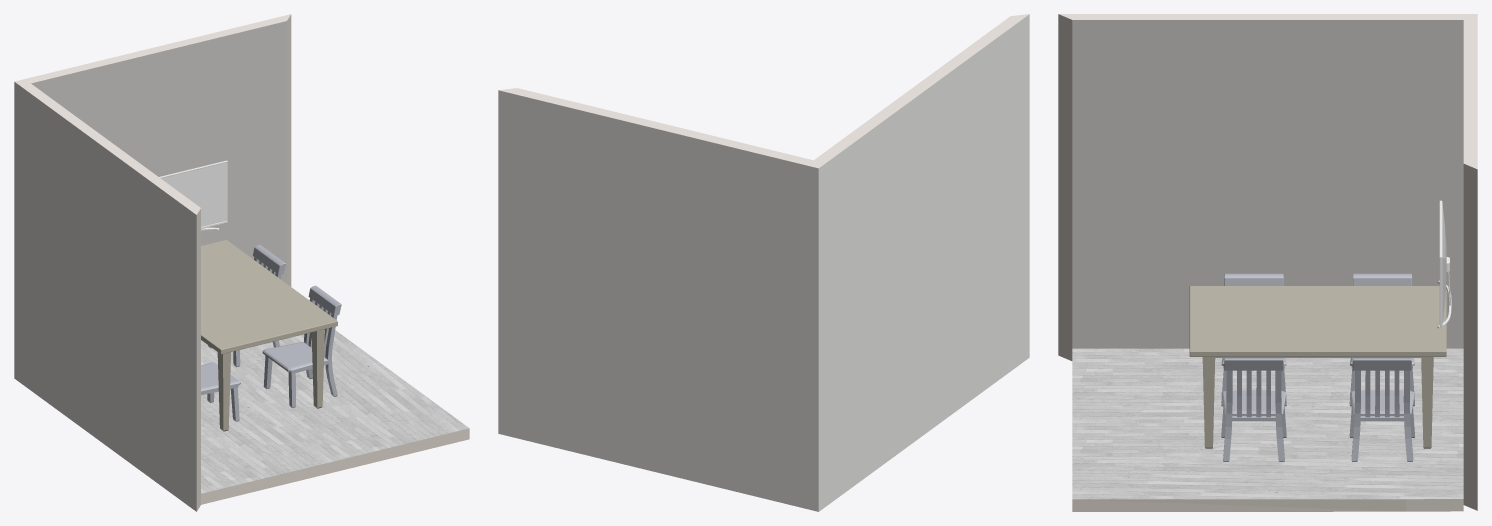
Rendered from sample_room3.glb.
3 renders of one model, left to right at view 1: azimuth 30°, elevation 25°; view 2: azimuth 150°, elevation 25°; view 3: azimuth 270°, elevation 25°, orthographic. The views are drawn at different scales.
Visible parts, largest first — view 1: wall_1.001, wall_2, floor_Dining Room_0, table0, floor_Dining Room_0.001, chair3, television0, wall_1.002, wall_2.002, wall_1.004, wall_2.004, chair2 (+1 smaller); view 2: wall_2.001, wall_1.001, wall_1.002, wall_2.002; view 3: wall_1, floor_Dining Room_0, table0, wall_1.004, wall_2.004, floor_Dining Room_0.001, chair3, chair1, wall_1.002, wall_2.002, television0, chair2 (+1 smaller).
Part boxes in pixels (box(x1,y1,x2,y2)): wall_1.001: box(14, 82, 196, 511); wall_2: box(31, 21, 286, 283); floor_Dining Room_0: box(201, 330, 469, 493); table0: box(201, 239, 337, 431); floor_Dining Room_0.001: box(201, 428, 469, 504); chair3: box(262, 285, 341, 407); television0: box(159, 160, 227, 230); wall_1.002: box(15, 81, 200, 214); wall_2.002: box(15, 14, 290, 83); wall_1.004: box(196, 209, 200, 511); wall_2.004: box(287, 14, 291, 286); chair2: box(201, 362, 240, 421); wall_2.001: box(498, 90, 818, 511); wall_1.001: box(818, 14, 1029, 511); wall_1.002: box(814, 14, 1029, 167); wall_2.002: box(499, 88, 818, 168); wall_1: box(1072, 20, 1463, 348); floor_Dining Room_0: box(1072, 348, 1463, 499); table0: box(1189, 286, 1446, 448); wall_1.004: box(1058, 14, 1072, 360); wall_2.004: box(1463, 164, 1477, 510); floor_Dining Room_0.001: box(1072, 499, 1463, 511); chair3: box(1221, 358, 1286, 461); chair1: box(1349, 358, 1414, 461); wall_1.002: box(1059, 14, 1476, 19); wall_2.002: box(1463, 14, 1477, 169); television0: box(1437, 200, 1451, 328); chair2: box(1221, 273, 1286, 406).
Size of the model in its own units: 2.65 by 2.69 by 3.
Materials: 13 (1 with a texture image).
